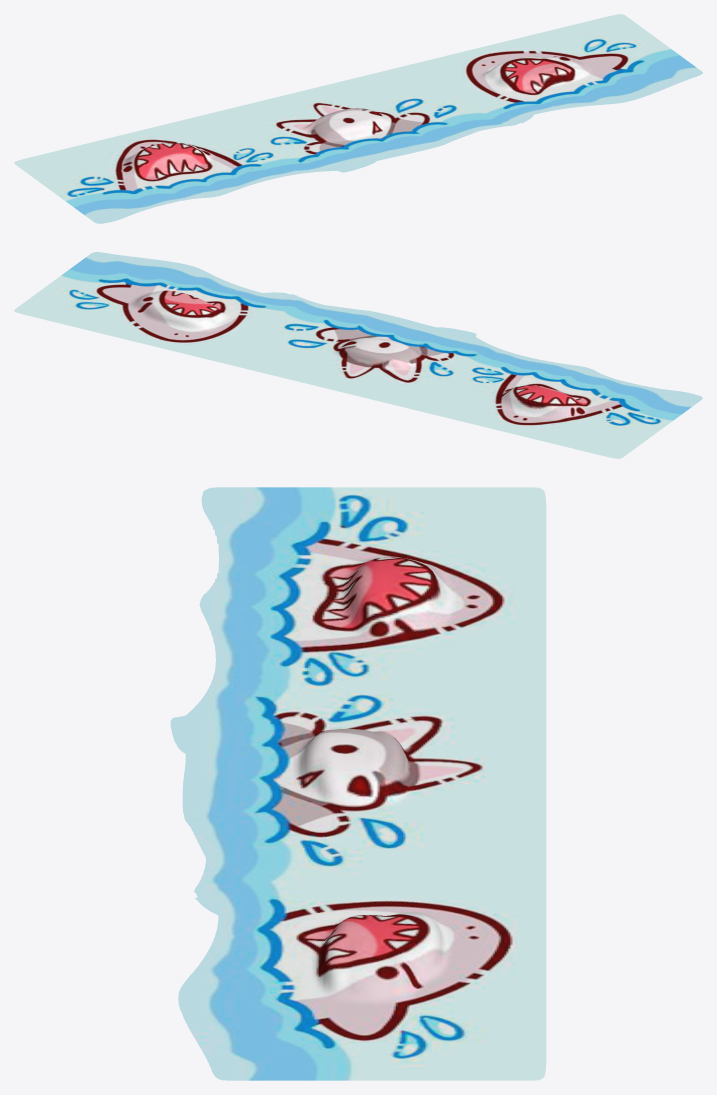
The picture shows the model from 3 angles, top to bottom: view 1: azimuth 30°, elevation 25°; view 2: azimuth 150°, elevation 25°; view 3: azimuth 270°, elevation 25°; orthographic projection. The views are drawn at different scales.
Parts seen in each view (by area): view 1: 平面.001; view 2: 平面.001; view 3: 平面.001.
Part boxes in pixels (x1,y1,x2,y2): 平面.001: [14, 14, 702, 223]; 平面.001: [14, 252, 702, 458]; 平面.001: [170, 487, 546, 1080].
Bounding box in the file's own units: 684 × 12.1 × 183.
